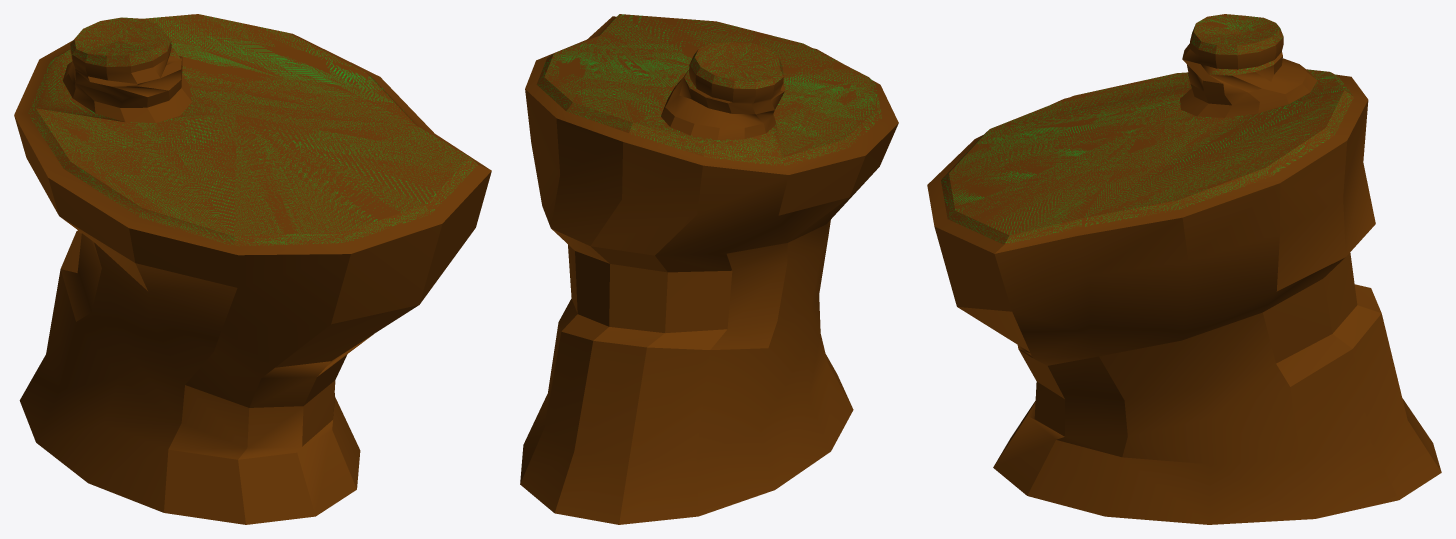
File: Plateau_Grass_01.fbx
3 views of the same model, side by side, from view 1: azimuth 30°, elevation 25°; view 2: azimuth 150°, elevation 25°; view 3: azimuth 270°, elevation 25° (orthographic). The views are drawn at different scales.
Visible parts, largest first — view 1: Model; view 2: Model; view 3: Model.
Part boxes in pixels (bbox=[...]): Model: bbox=[14, 14, 491, 524]; Model: bbox=[520, 14, 898, 524]; Model: bbox=[927, 14, 1441, 524].
Bounding box in the file's own units: 1992 × 2221 × 2551.
